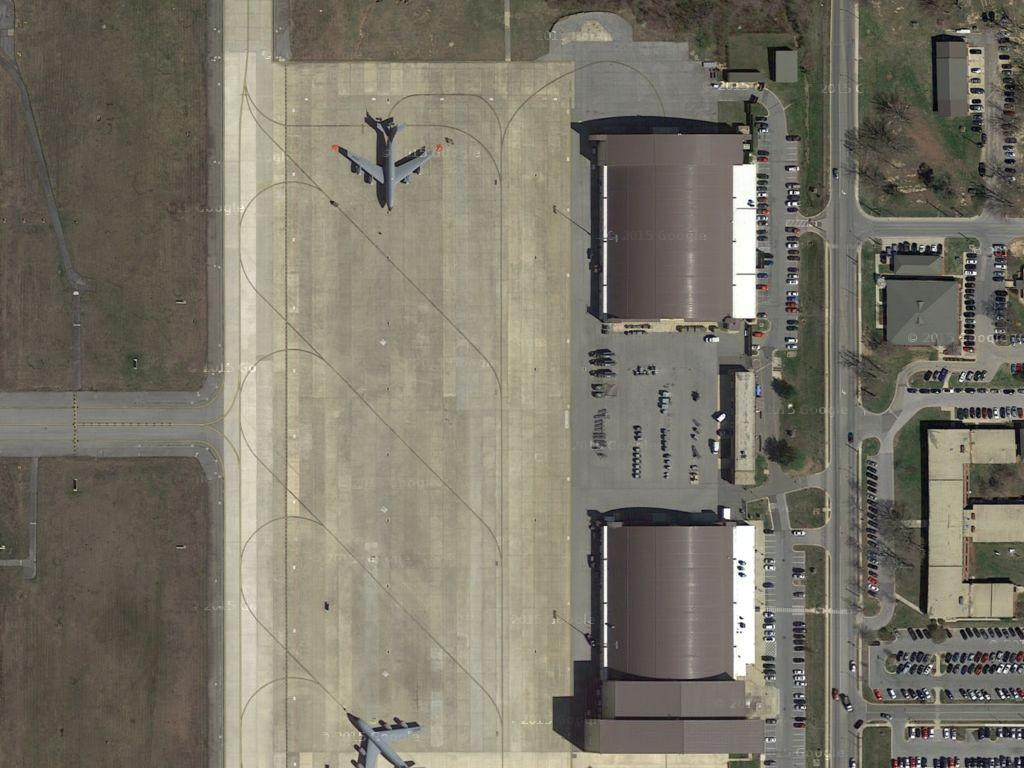KC-135: (334, 115, 438, 212), (344, 711, 429, 768)
